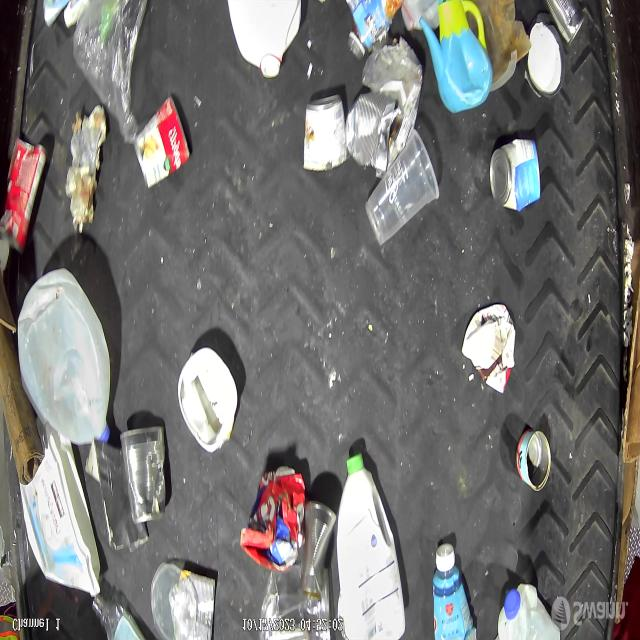can: (132, 94, 190, 191), (1, 134, 46, 254), (345, 90, 404, 173), (121, 422, 167, 526), (492, 136, 541, 212), (302, 91, 347, 172), (303, 498, 337, 600), (168, 568, 216, 640), (516, 424, 552, 494), (545, 0, 586, 46)
milk_jug: (18, 263, 112, 450), (228, 0, 304, 80), (496, 582, 564, 640)
